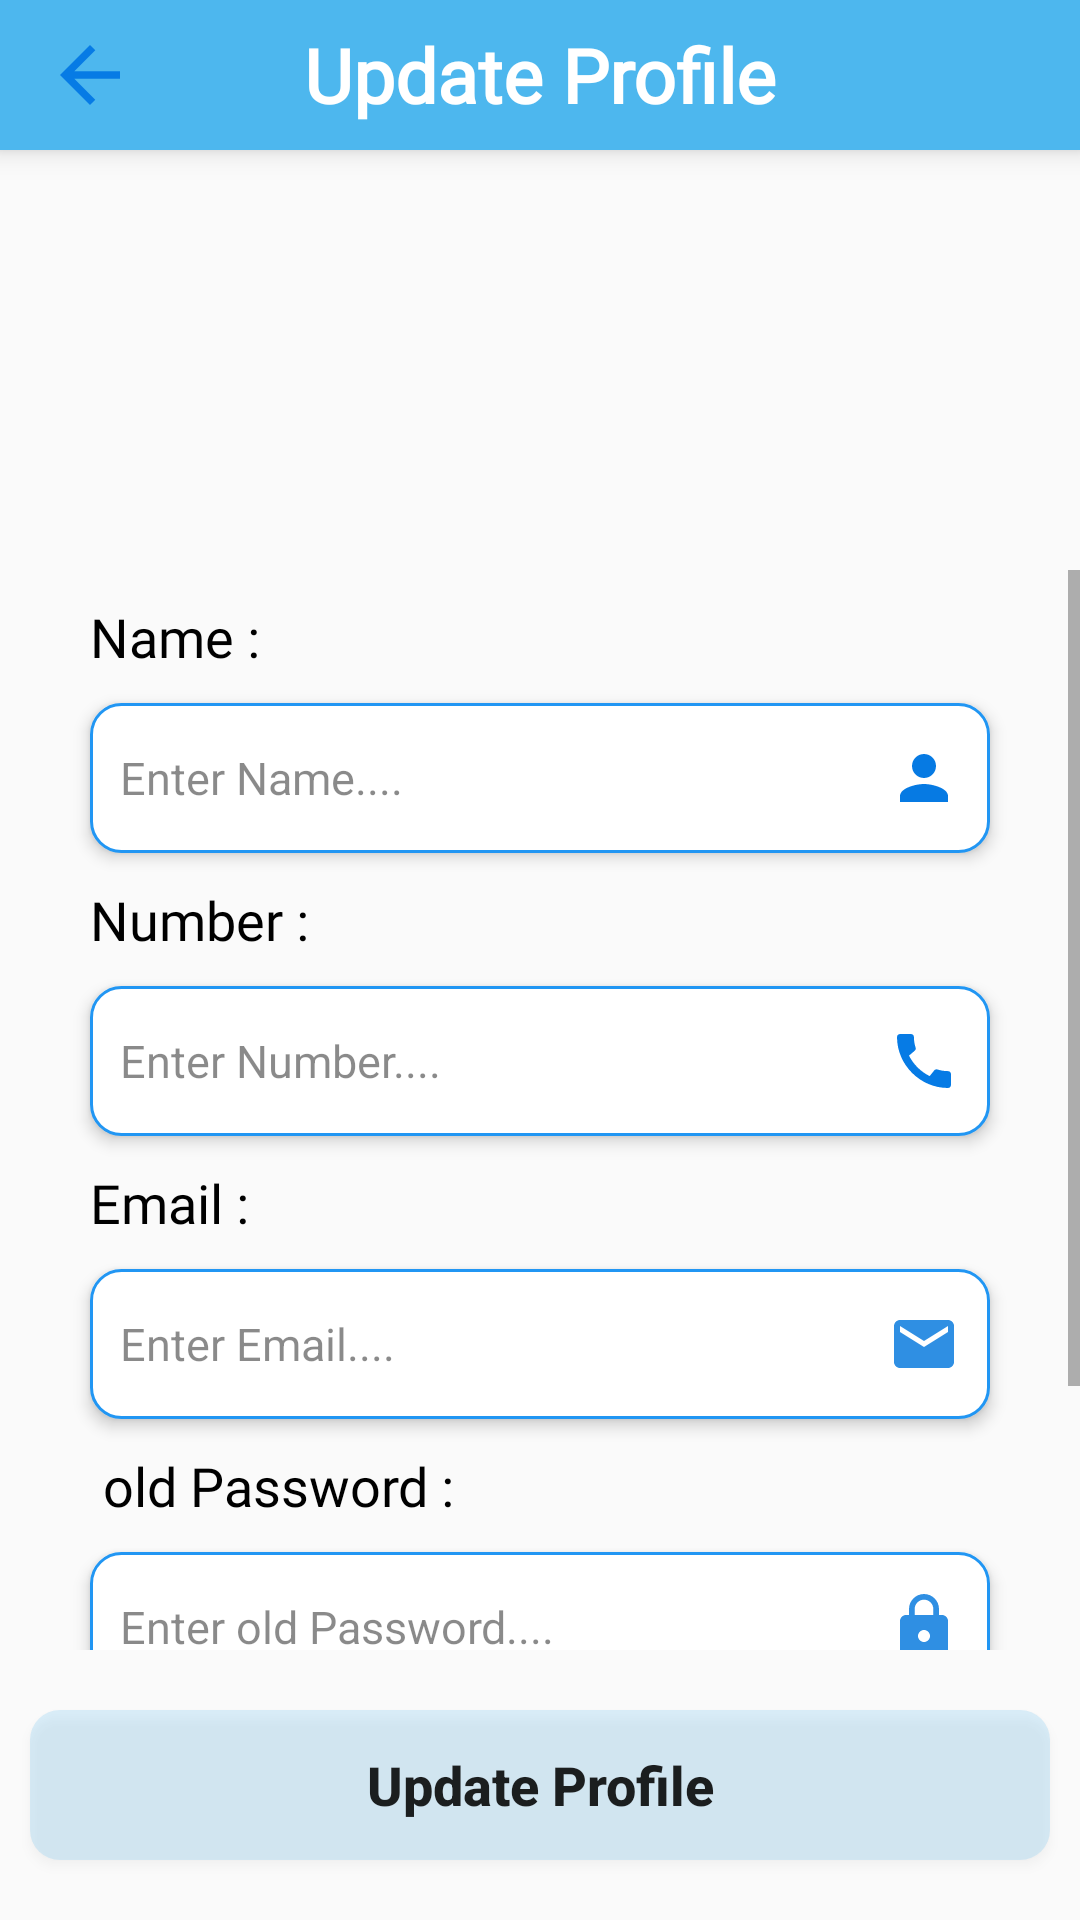

Point at icon controls on the screen. Image size 1080w x 1920h, points as point (x, y).
arrow back: point (90, 75)
